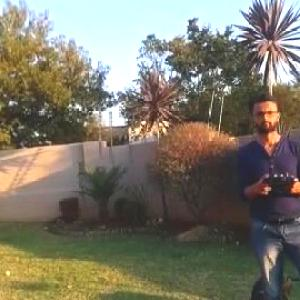follow: (235, 85, 300, 299)
